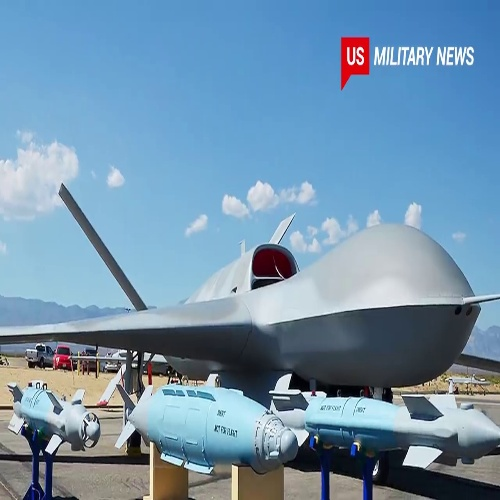uav: (4, 180, 497, 394)
